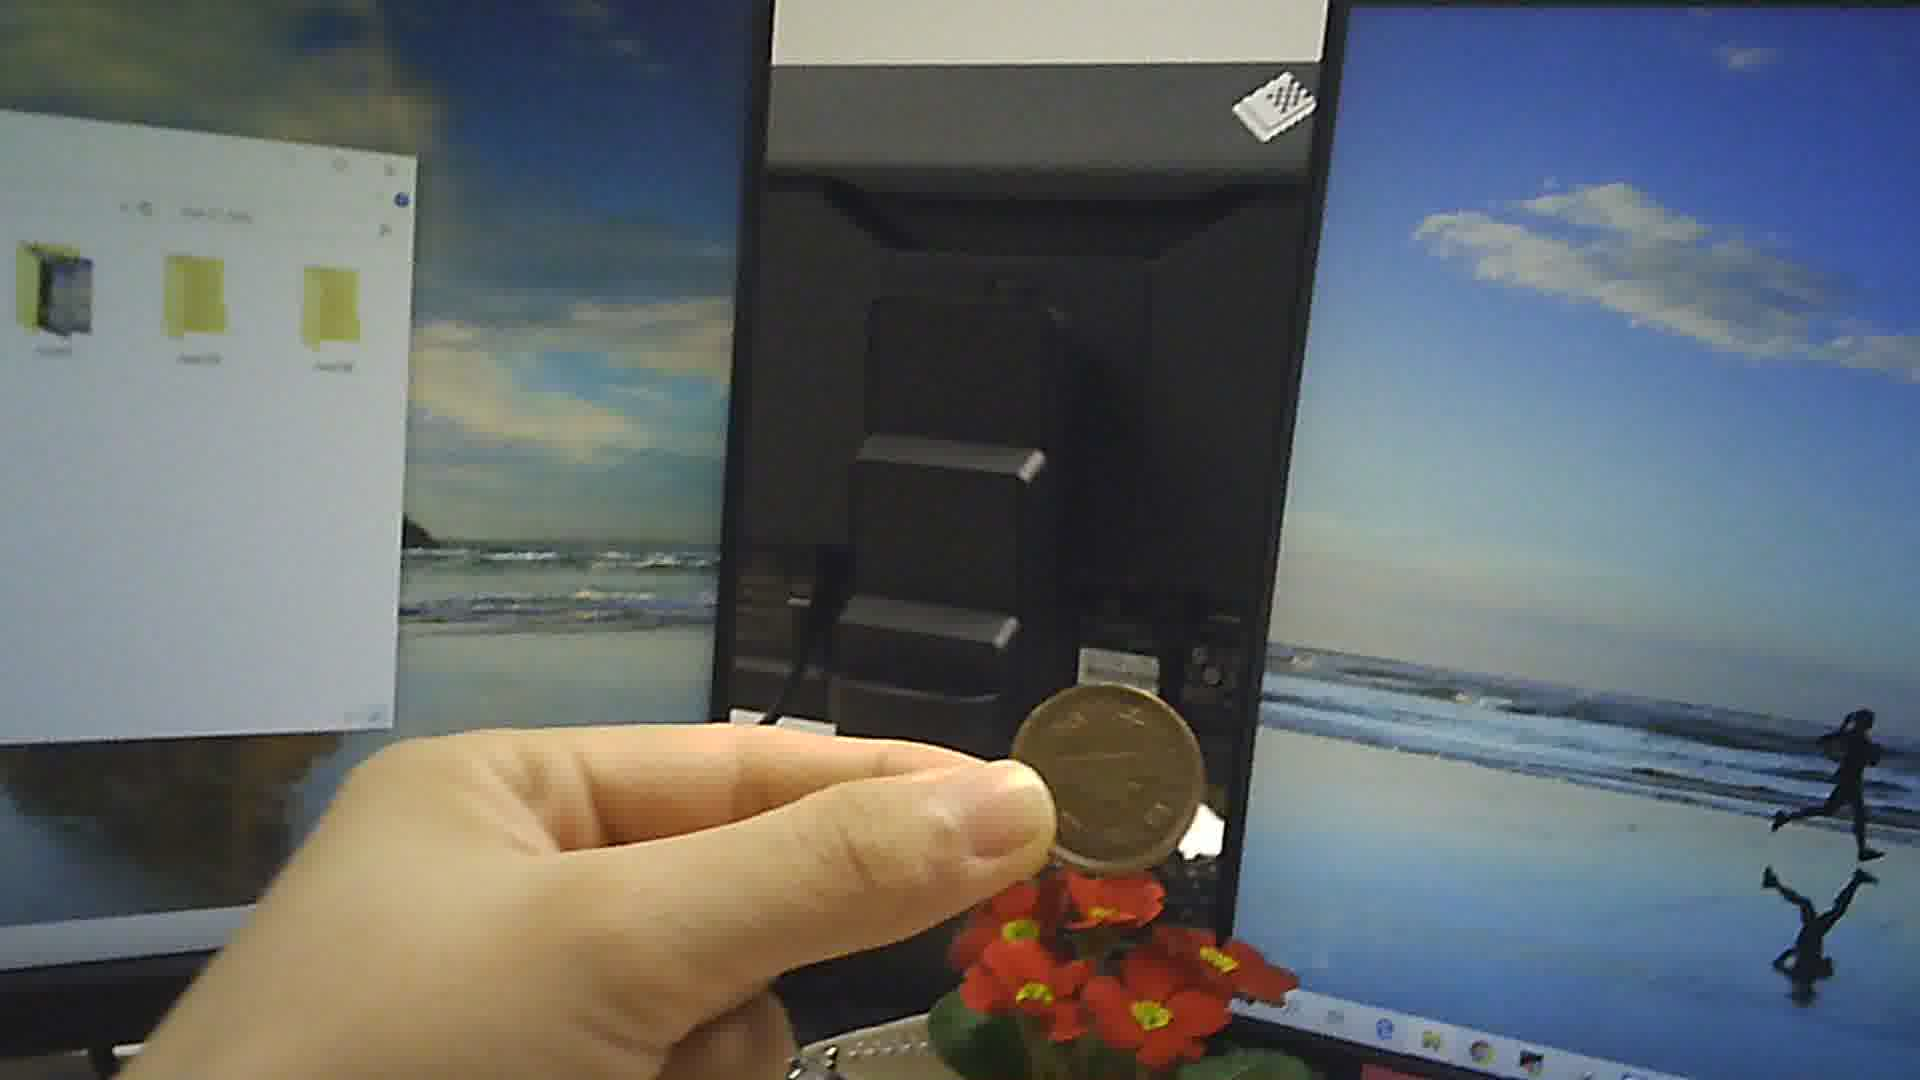10 Yen: (1005, 676, 1207, 876)
